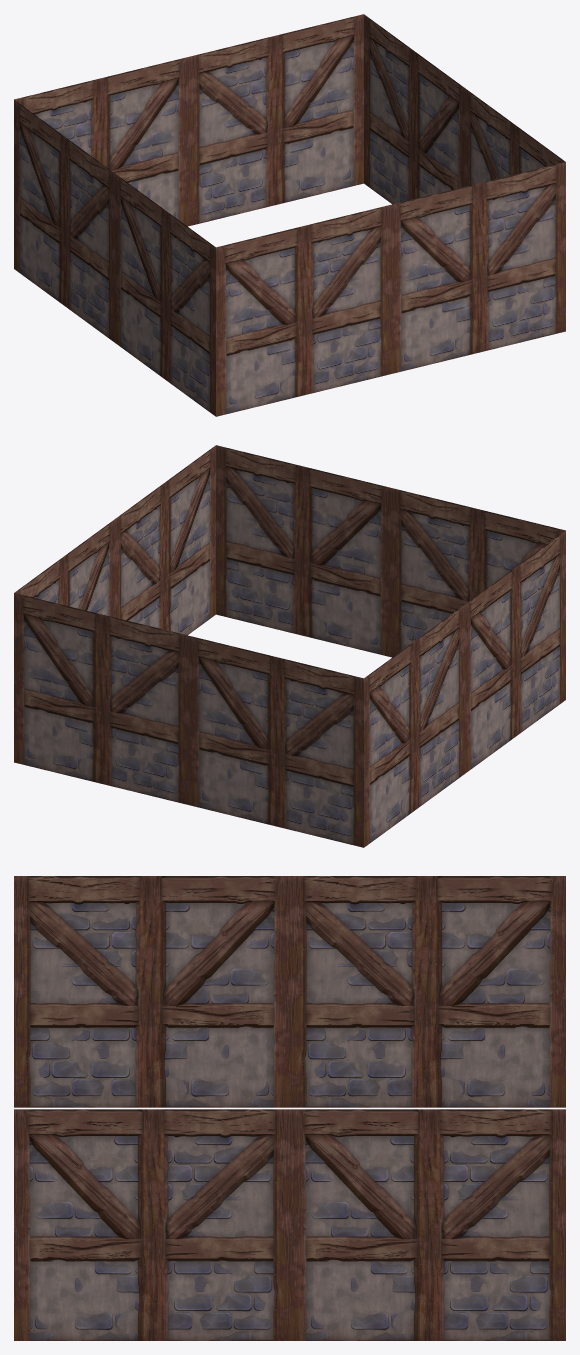
Rendered from wall_rejunte_up2x2.fbx.
3 views of the same model, one above another, from view 1: azimuth 30°, elevation 25°; view 2: azimuth 150°, elevation 25°; view 3: azimuth 270°, elevation 25° (orthographic). The views are drawn at different scales.
Visible parts, largest first — view 1: parede_rejunte_cima2x2; view 2: parede_rejunte_cima2x2; view 3: parede_rejunte_cima2x2.
Boxes of the visible parts, x1,y1,x2,y2 form: parede_rejunte_cima2x2: (14, 14, 565, 416); parede_rejunte_cima2x2: (14, 445, 565, 847); parede_rejunte_cima2x2: (14, 876, 565, 1340).
Bounding box in the file's own units: 299 × 139 × 299.
